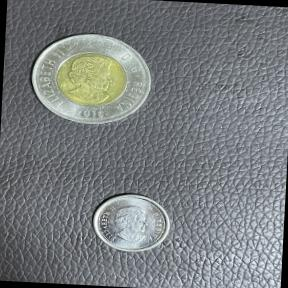Canada-10cent-B: (88, 190, 178, 257)
Canada-2Dollar-B: (22, 25, 158, 135)
